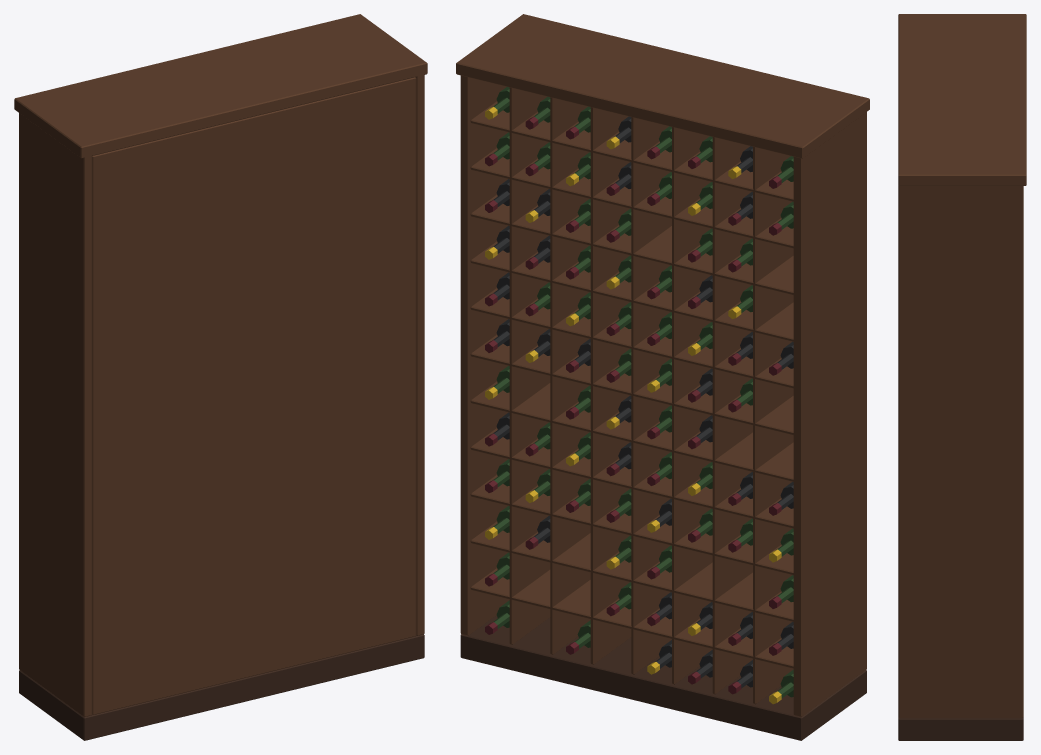
The model's file is prop_wine_rack.glb.
3 renders of one model, left to right at view 1: azimuth 30°, elevation 25°; view 2: azimuth 150°, elevation 25°; view 3: azimuth 270°, elevation 25°, orthographic. The views are drawn at different scales.
Visible parts, largest first — view 1: Rack; view 2: Rack; view 3: Rack.
Boxes of the visible parts, x1,y1,x2,y2 form: Rack: [14, 14, 427, 740]; Rack: [456, 14, 869, 740]; Rack: [898, 14, 1026, 740].
Size of what is drawn, in the model's own units: 1.22 by 2 by 0.41.
